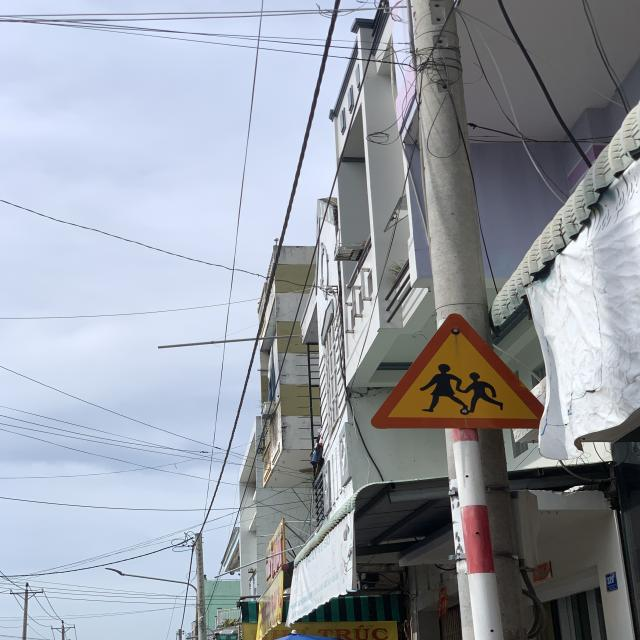Vong_Xuyen: (371, 314, 544, 429)
